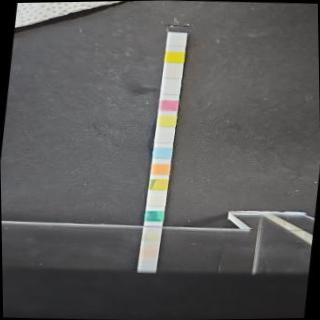mark: (150, 162, 170, 175), (165, 49, 183, 63), (144, 210, 164, 222), (160, 81, 178, 94), (153, 147, 172, 159), (154, 129, 173, 141), (157, 114, 176, 126), (168, 33, 185, 46), (150, 178, 168, 190), (158, 98, 176, 110), (163, 66, 181, 78), (148, 195, 164, 206)
